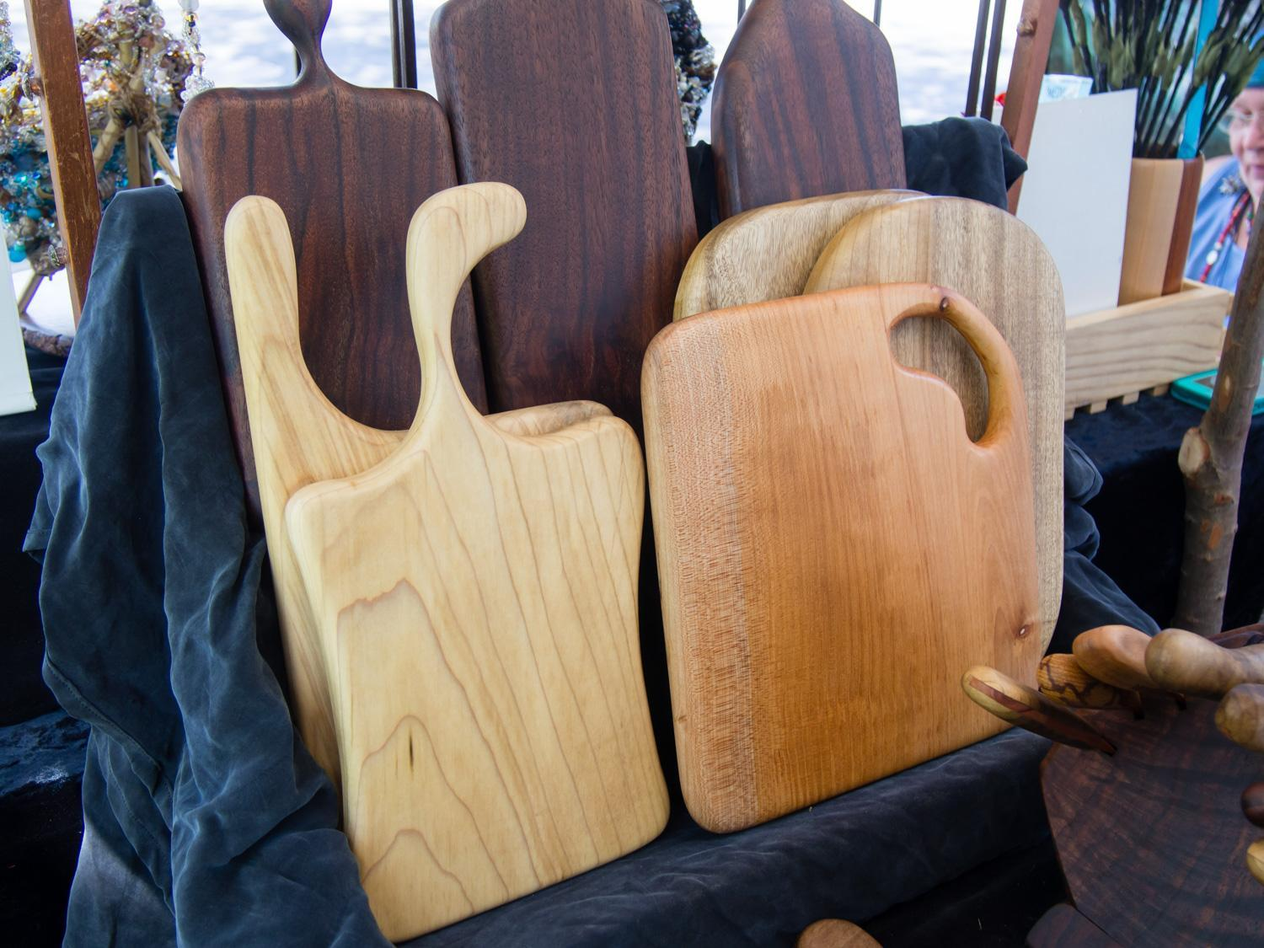gloved_hand: (635, 283, 1061, 841)
